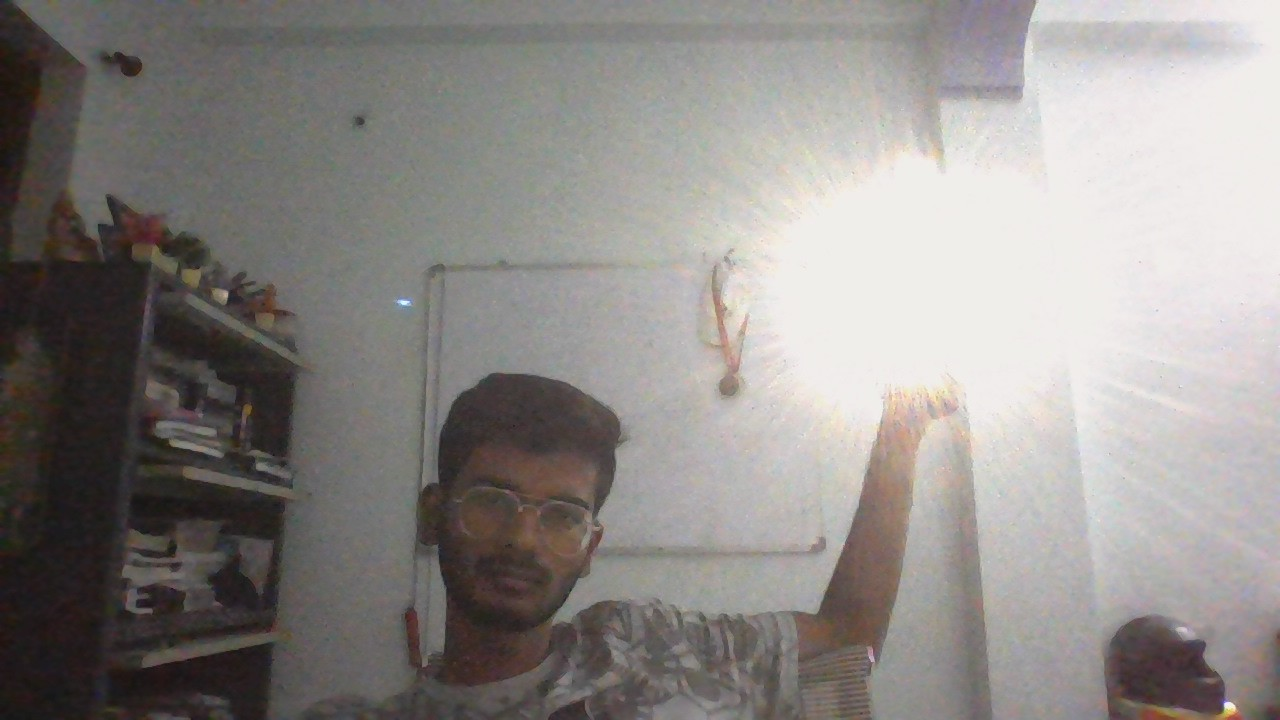Glare: (753, 158, 1085, 407)
